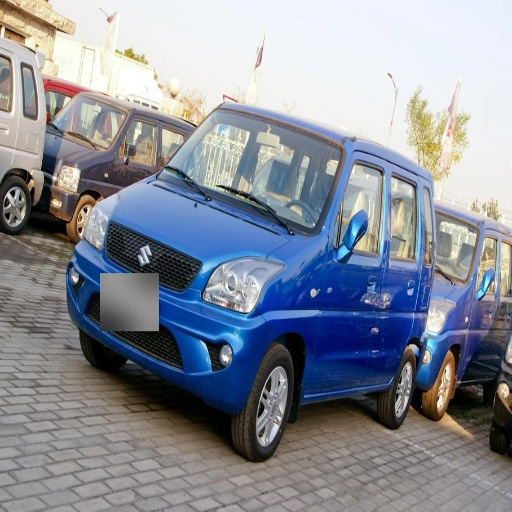front_bumper: (67, 240, 268, 413)
front_glass: (164, 115, 344, 232)
front_left_door: (311, 154, 390, 390)
front_right_light: (80, 212, 152, 269)
trunk: (404, 269, 461, 361)
